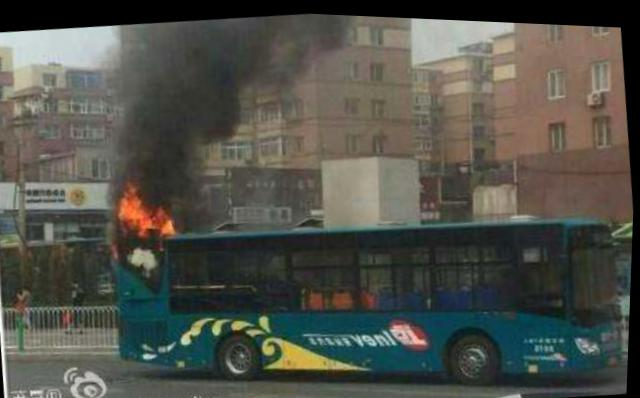fire: (113, 174, 186, 273)
